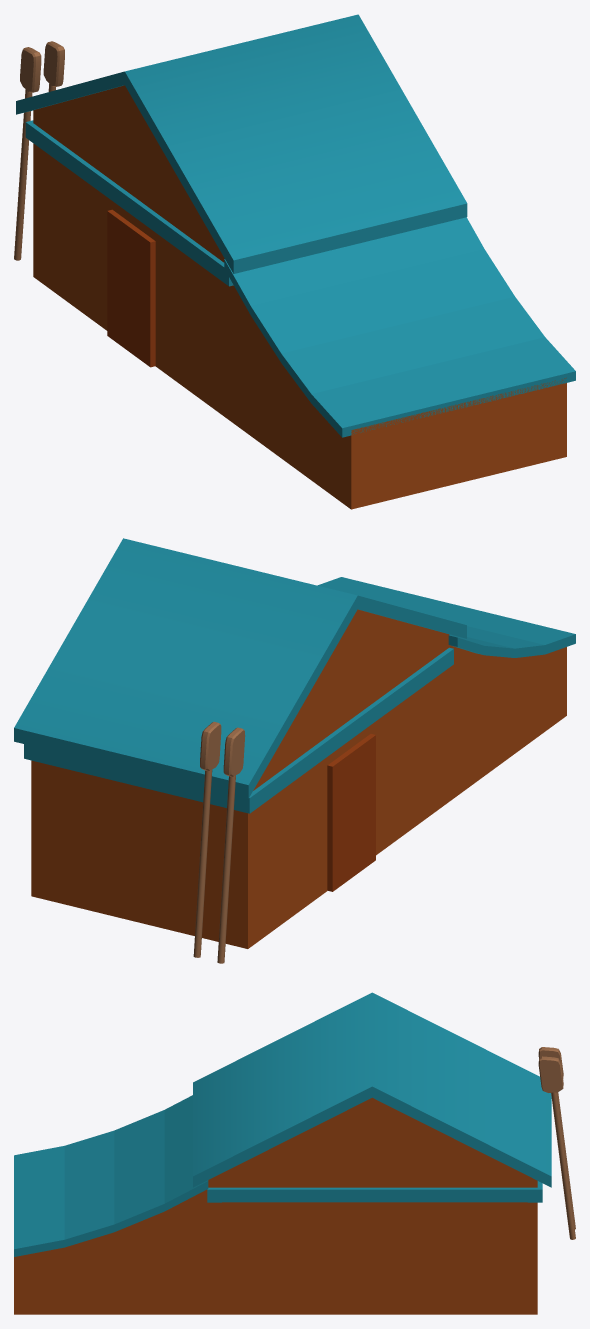
The model's file is fishershut.fbx.
3 renders of one model, top to bottom at view 1: azimuth 30°, elevation 25°; view 2: azimuth 150°, elevation 25°; view 3: azimuth 270°, elevation 25°, orthographic. The views are drawn at different scales.
Visible parts, largest first — view 1: Object002.001, Object, Object.002, Object.003, Object.001, Object.004; view 2: Object, Object002.001, Object.002, Object.003, Object.005, Object.004, Object.001; view 3: Object, Object002.001, Object.005, Object.004.
Boxes of the visible parts, x1=… form: Object002.001: x1=16, y1=14, x2=575, y2=437; Object: x1=25, y1=85, x2=566, y2=509; Object.002: x1=107, y1=209, x2=155, y2=367; Object.003: x1=14, y1=89, x2=32, y2=260; Object.001: x1=20, y1=47, x2=41, y2=92; Object.004: x1=43, y1=41, x2=64, y2=86; Object: x1=24, y1=609, x2=566, y2=948; Object002.001: x1=14, y1=538, x2=575, y2=798; Object.002: x1=327, y1=734, x2=375, y2=891; Object.003: x1=217, y1=775, x2=235, y2=963; Object.005: x1=193, y1=769, x2=212, y2=957; Object.004: x1=200, y1=721, x2=221, y2=771; Object.001: x1=223, y1=727, x2=245, y2=776; Object: x1=14, y1=1097, x2=542, y2=1314; Object002.001: x1=14, y1=992, x2=551, y2=1256; Object.005: x1=551, y1=1092, x2=575, y2=1239; Object.004: x1=538, y1=1056, x2=563, y2=1092.
Bounding box in the file's own units: 1861 × 2139 × 4702.
